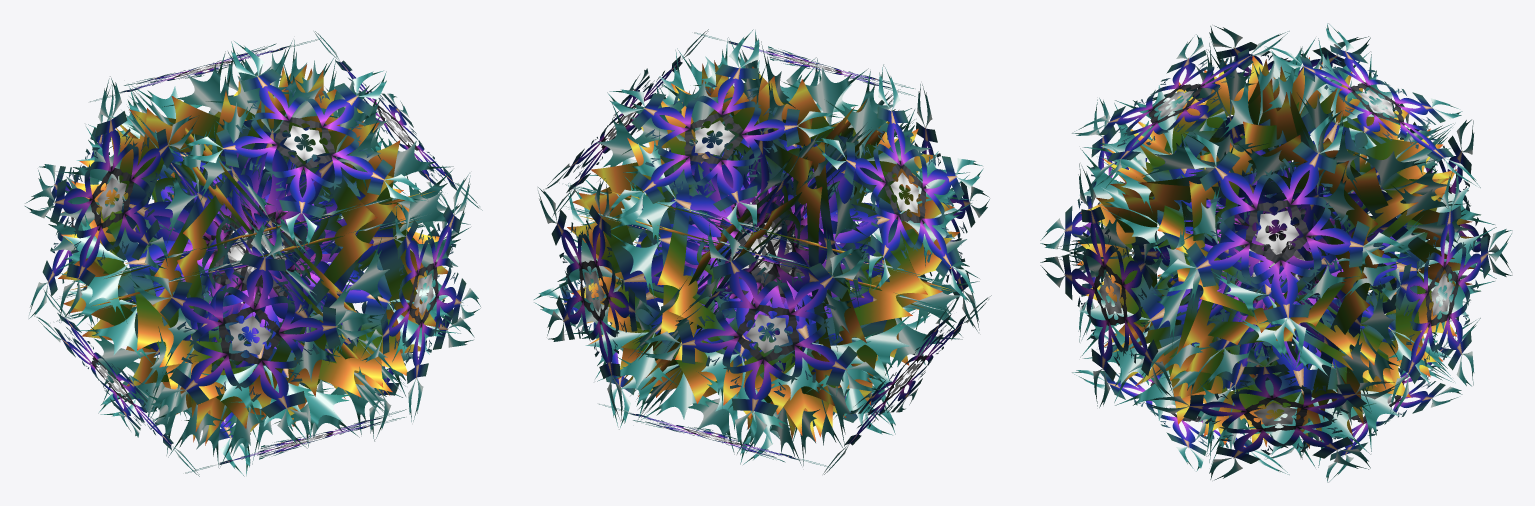
File: 15InvertedSnubDodecadodecahedron.gltf
3 renders of one model, left to right at view 1: azimuth 30°, elevation 25°; view 2: azimuth 150°, elevation 25°; view 3: azimuth 270°, elevation 25°, orthographic.
Visible parts, largest first — view 1: 7InvertedSnubDodecadodecahedron; view 2: 7InvertedSnubDodecadodecahedron; view 3: 7InvertedSnubDodecadodecahedron.
Part boxes in pixels (x1=…): 7InvertedSnubDodecadodecahedron: x1=25, y1=31, x2=482, y2=476; 7InvertedSnubDodecadodecahedron: x1=534, y1=29, x2=991, y2=474; 7InvertedSnubDodecadodecahedron: x1=1040, y1=23, x2=1512, y2=482.
Size of the model in its own units: 1.69 by 1.69 by 1.69.
Materials: 1 (1 with a texture image).
